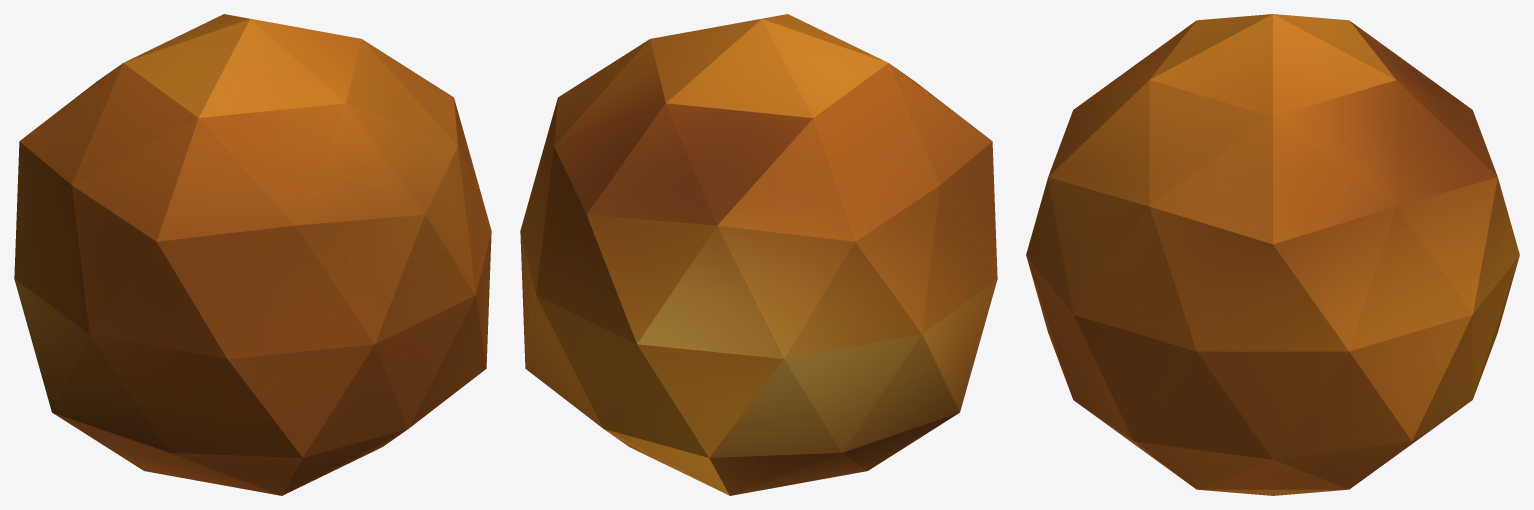
File: venus.fbx
3 renders of one model, left to right at view 1: azimuth 30°, elevation 25°; view 2: azimuth 150°, elevation 25°; view 3: azimuth 270°, elevation 25°, orthographic.
Parts seen in each view (by area): view 1: pSolid1; view 2: pSolid1; view 3: pSolid1.
Part boxes in pixels (x1=…): pSolid1: x1=14, y1=14, x2=491, y2=495; pSolid1: x1=520, y1=14, x2=997, y2=495; pSolid1: x1=1026, y1=14, x2=1519, y2=495.
Bounding box in the file's own units: 16.47 × 18.52 × 17.3.
